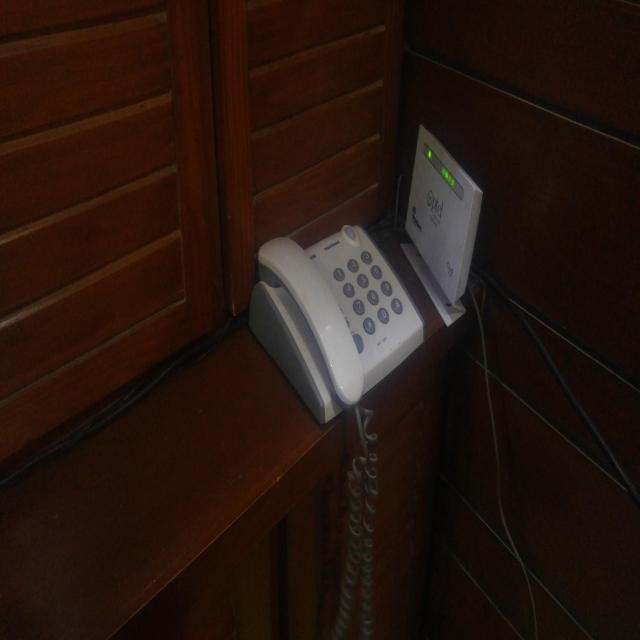Phone: (243, 216, 424, 639)
